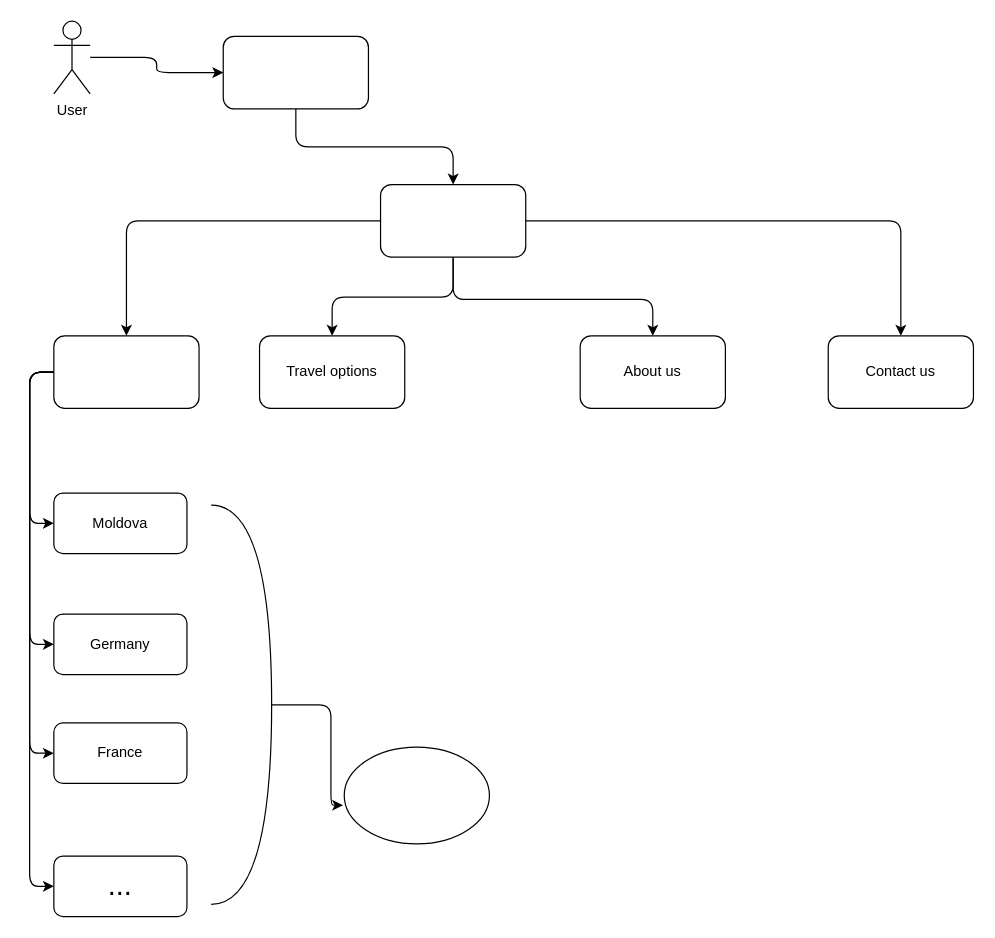
This 995x938 diagram has some shape labels left out. Each missing label, with the centre of its shape:
Browser: [295,72]
Countrys: [126,371]
Home Page: [452,220]
Look: [416,795]
